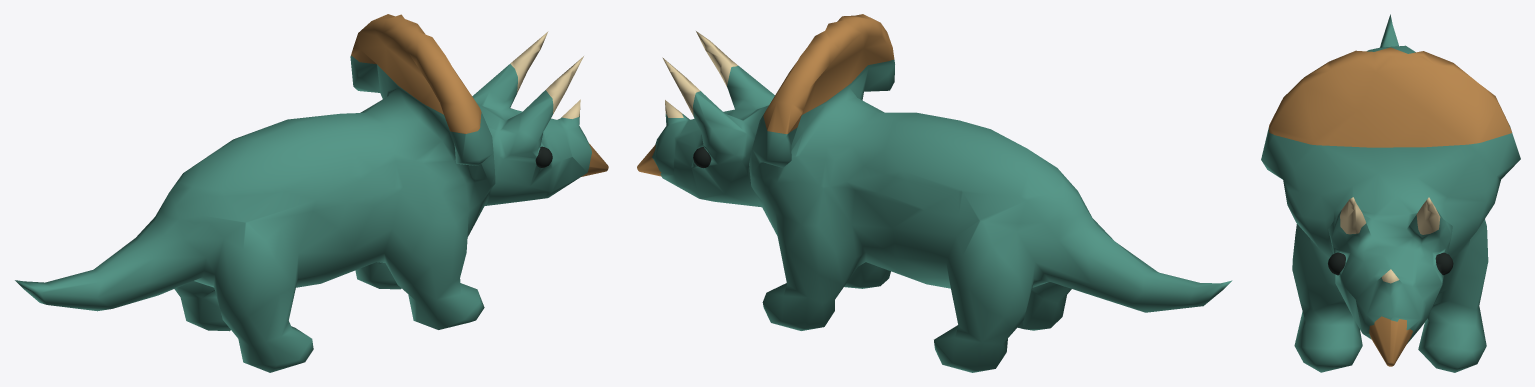
Rendered from NEW_RECOVERY_101_LOD2.glb.
3 renders of one model, left to right at view 1: azimuth 30°, elevation 25°; view 2: azimuth 150°, elevation 25°; view 3: azimuth 270°, elevation 25°, orthographic. The views are drawn at different scales.
Parts seen in each view (by area): view 1: Triceratops_LOD2; view 2: Triceratops_LOD2; view 3: Triceratops_LOD2.
Part boxes in pixels (x1=…): Triceratops_LOD2: x1=15, y1=14, x2=608, y2=372; Triceratops_LOD2: x1=637, y1=14, x2=1232, y2=372; Triceratops_LOD2: x1=1261, y1=14, x2=1520, y2=372.
Bounding box in the file's own units: 6.77 × 3.08 × 2.36.
